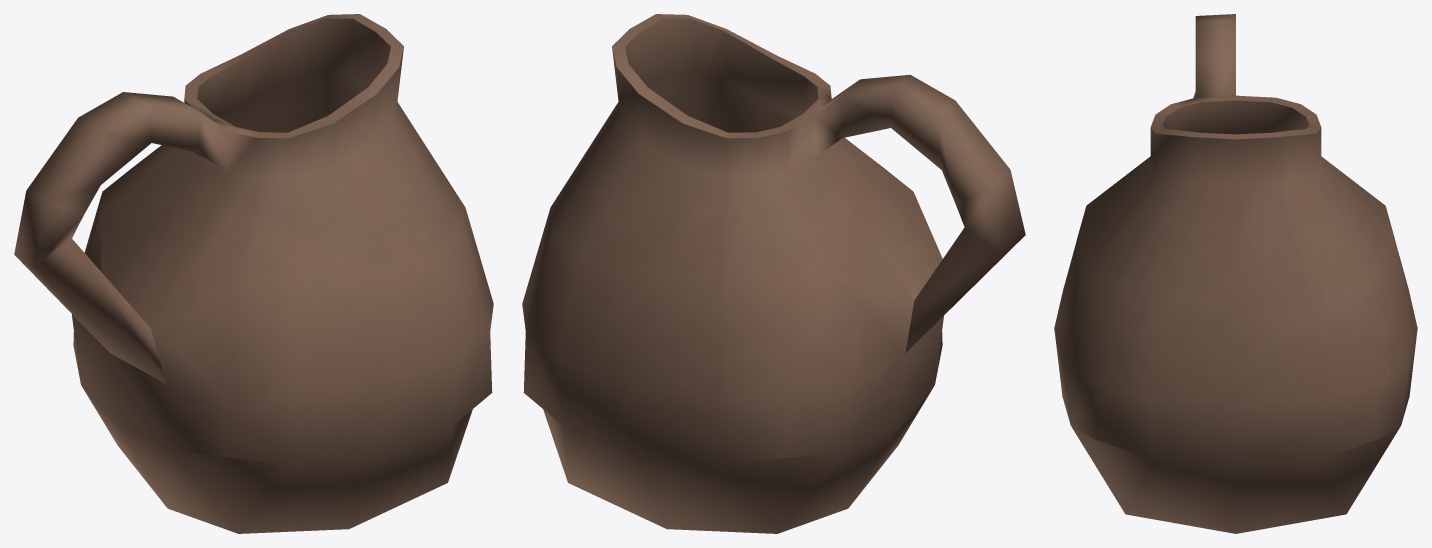
Rendered from Pitcher.fbx.
The picture shows the model from 3 angles, left to right: view 1: azimuth 30°, elevation 25°; view 2: azimuth 150°, elevation 25°; view 3: azimuth 270°, elevation 25°; orthographic projection. The views are drawn at different scales.
Visible parts, largest first — view 1: Pitcher; view 2: Pitcher; view 3: Pitcher.
Part boxes in pixels (box(x1,y1,x2,y2)): Pitcher: box(14, 14, 493, 533); Pitcher: box(522, 14, 1025, 533); Pitcher: box(1054, 14, 1417, 533).
Bounding box in the file's own units: 49.51 × 48.2 × 38.51.
1 material, 1 textured.
